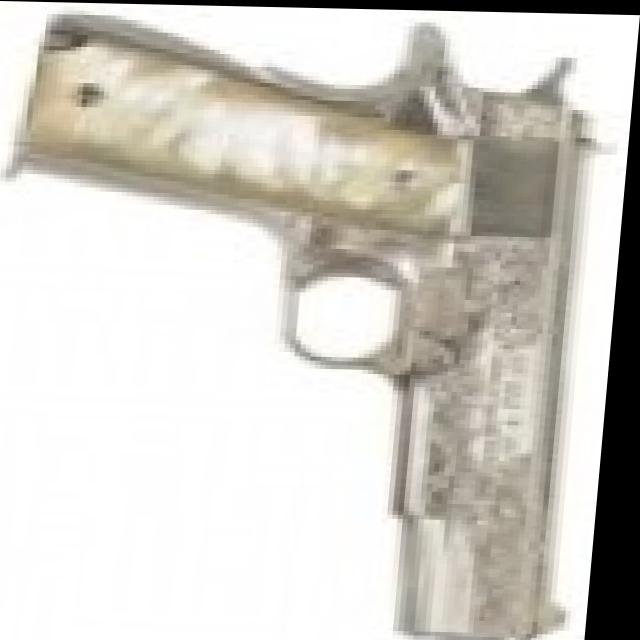handgun: (0, 17, 628, 640)
